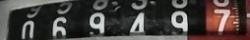digits: (87, 12, 106, 38), (212, 9, 231, 35), (171, 10, 188, 38), (50, 16, 68, 40), (129, 12, 145, 36), (20, 19, 36, 40)
